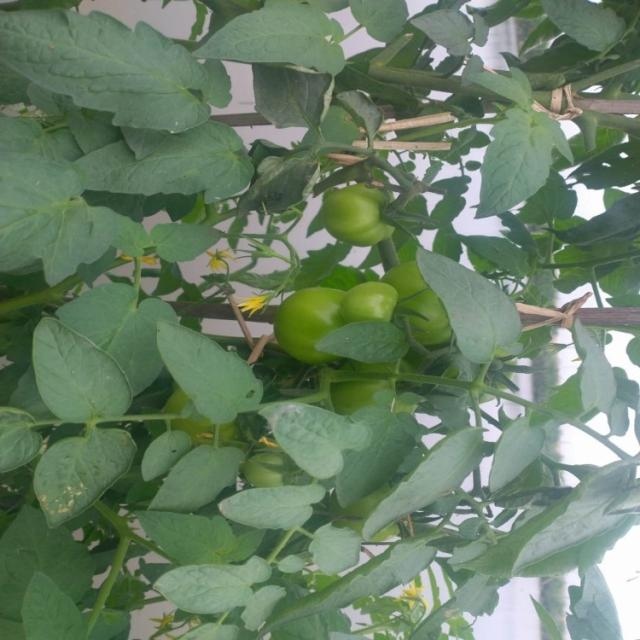tomato: (324, 169, 406, 258), (274, 283, 351, 362), (335, 369, 431, 417), (343, 268, 405, 326), (232, 444, 293, 489), (405, 289, 455, 343)
